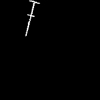double_crochet: (26, 1, 38, 34)
